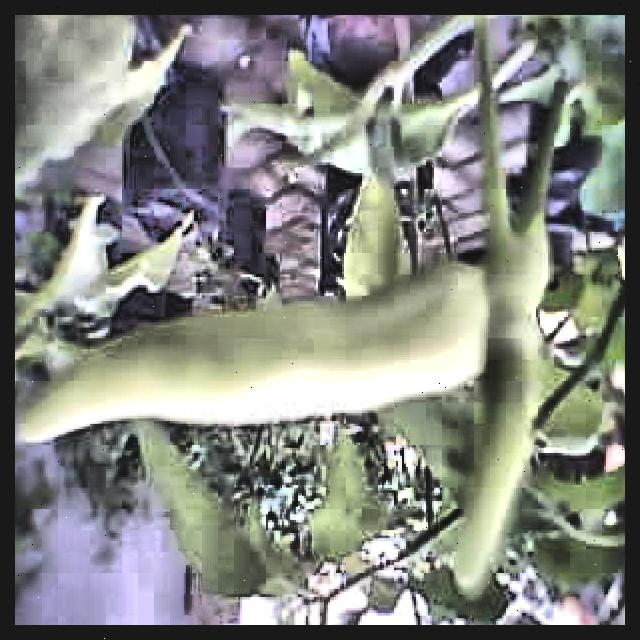Cabai: (41, 254, 450, 476), (474, 181, 546, 573)
